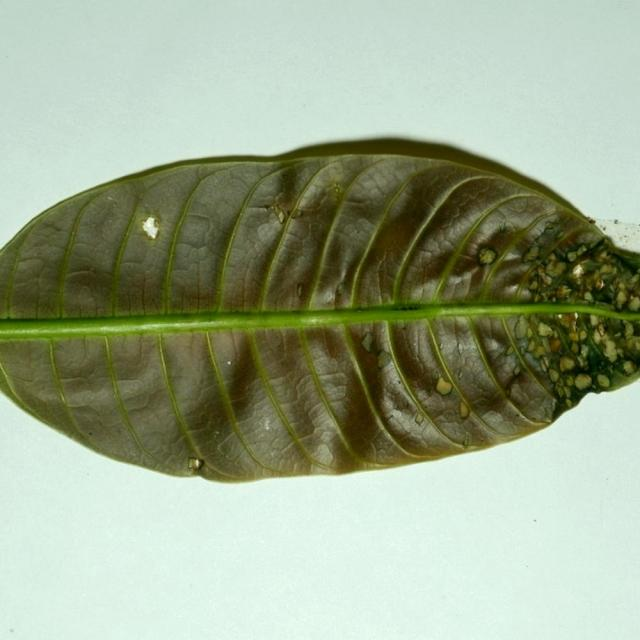Anthracnose: (376, 257, 623, 318), (574, 228, 640, 334), (546, 323, 617, 410), (558, 268, 597, 340), (597, 263, 637, 313), (533, 318, 575, 360), (560, 279, 598, 312), (579, 339, 606, 369)
Mango: (0, 138, 639, 487)
